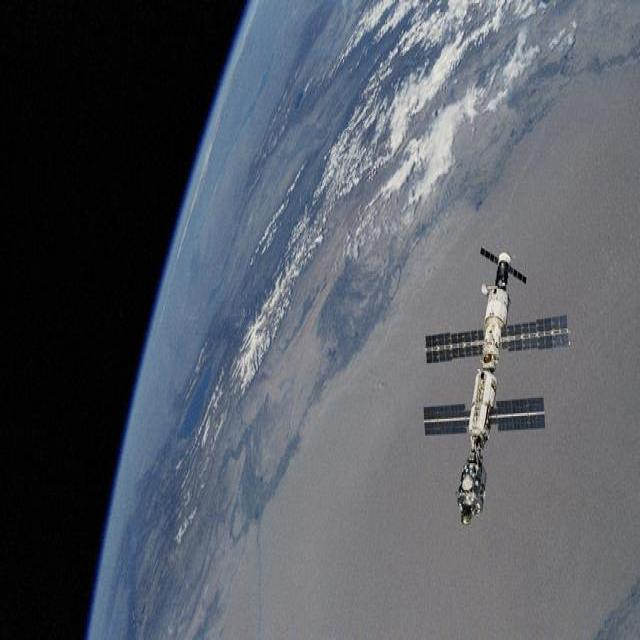medium_debris: (424, 248, 569, 525)
